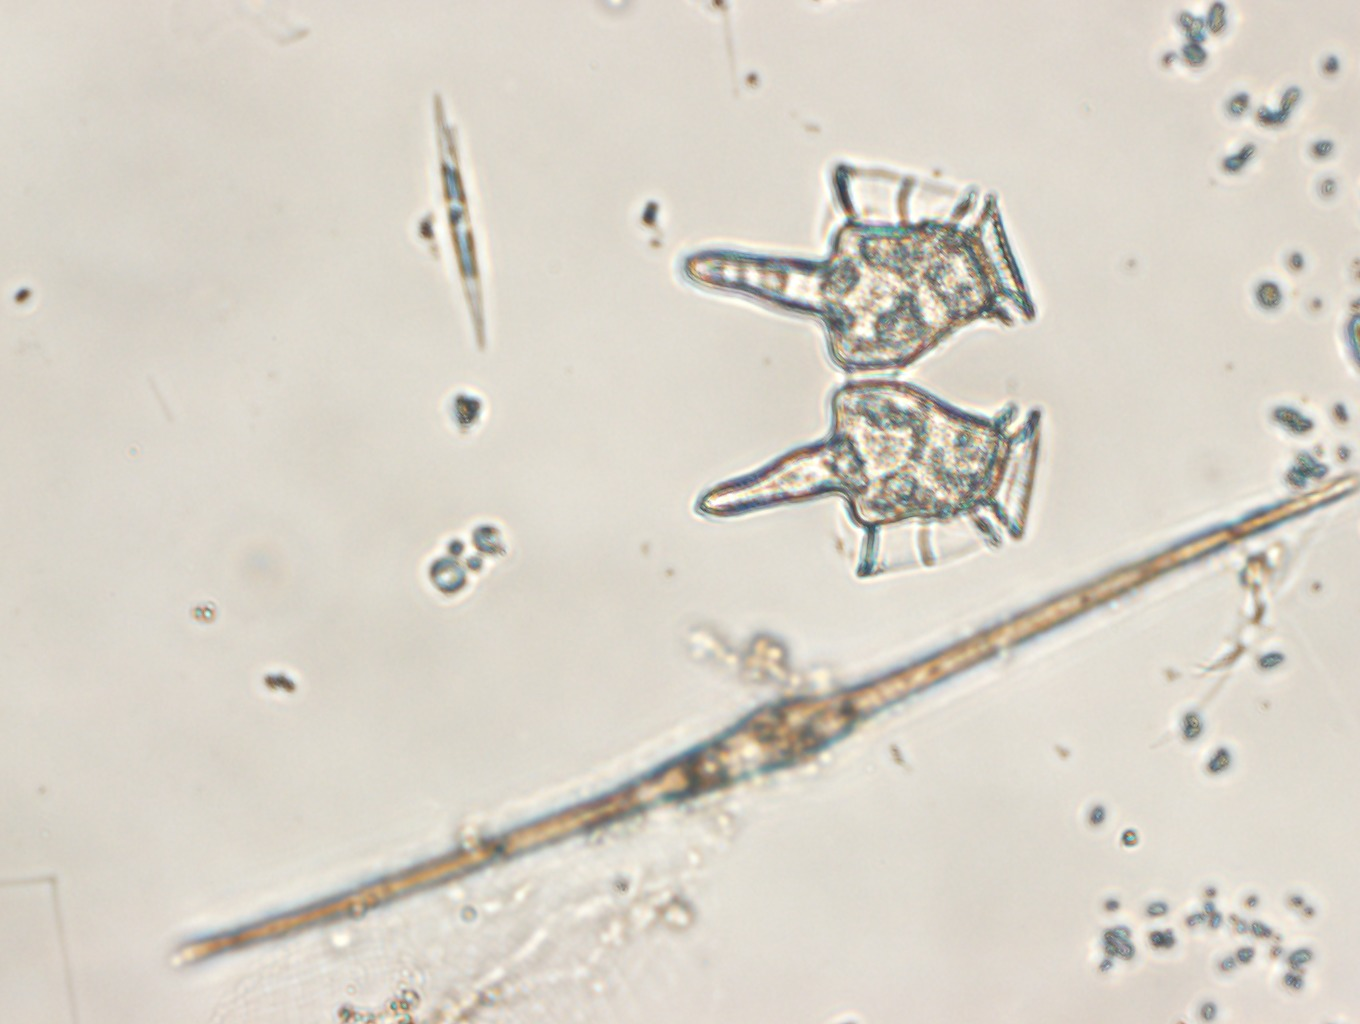ceratium fusus: (173, 478, 1360, 970)
dinophysis caudata: (681, 158, 1042, 578)
navicula: (431, 93, 487, 349)
